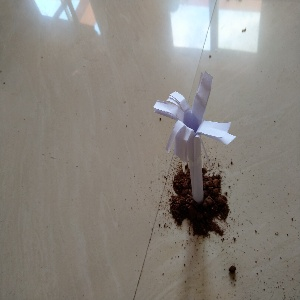weed: (150, 87, 225, 206)
